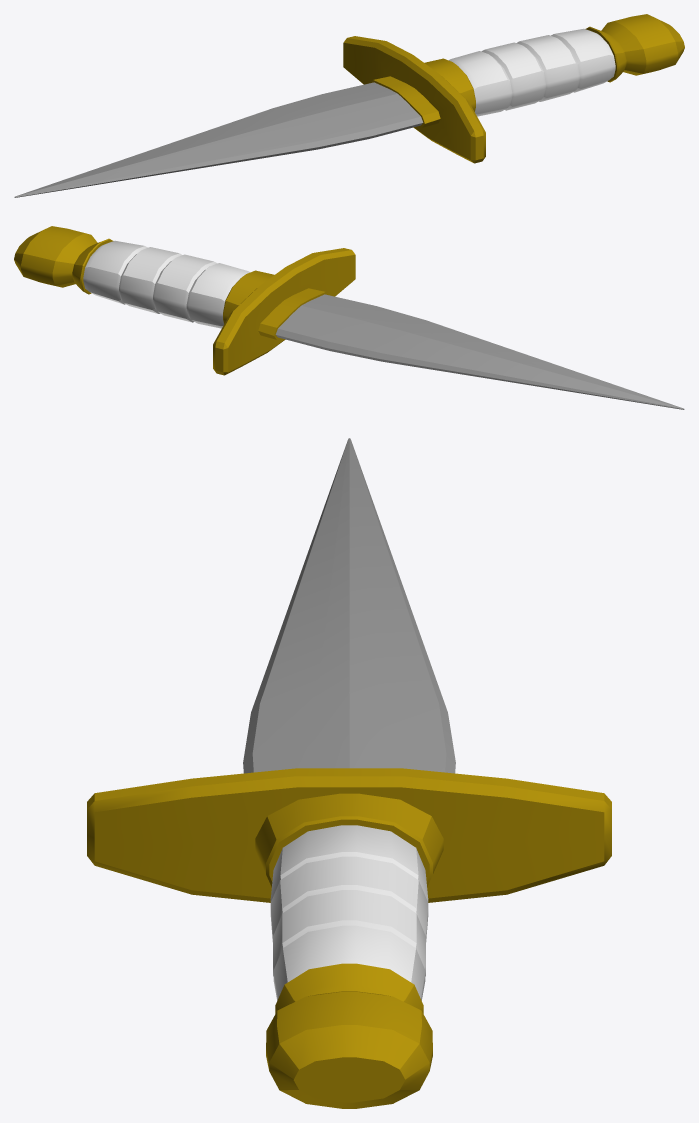
The model's file is Dagger.fbx.
3 views of the same model, one above another, from view 1: azimuth 30°, elevation 25°; view 2: azimuth 150°, elevation 25°; view 3: azimuth 270°, elevation 25° (orthographic). The views are drawn at different scales.
Parts seen in each view (by area): view 1: Dagger; view 2: Dagger; view 3: Dagger.
Part boxes in pixels (x1,y1,x2,y2): Dagger: [14, 14, 684, 197]; Dagger: [14, 226, 684, 409]; Dagger: [87, 438, 611, 1108].
Size of the model in its own units: 0.5238 by 0.0493 by 0.1814.
